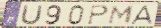0: (67, 4, 85, 26)
9: (44, 4, 64, 26)
A: (129, 4, 154, 25)
M: (106, 5, 135, 25)
P: (86, 4, 110, 26)
U: (19, 4, 44, 26)
